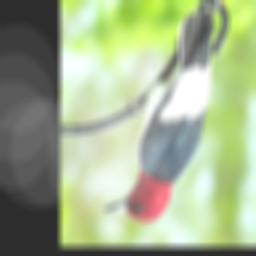Woodpecker: (101, 0, 224, 223)
